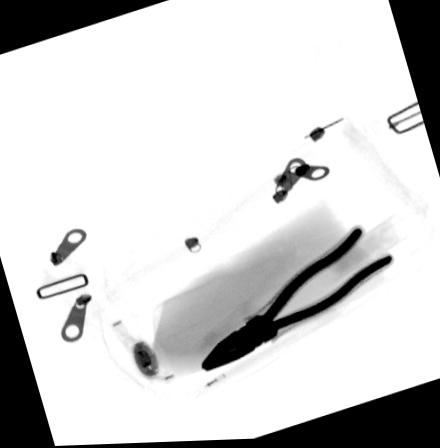Pliers: (199, 226, 395, 373)
